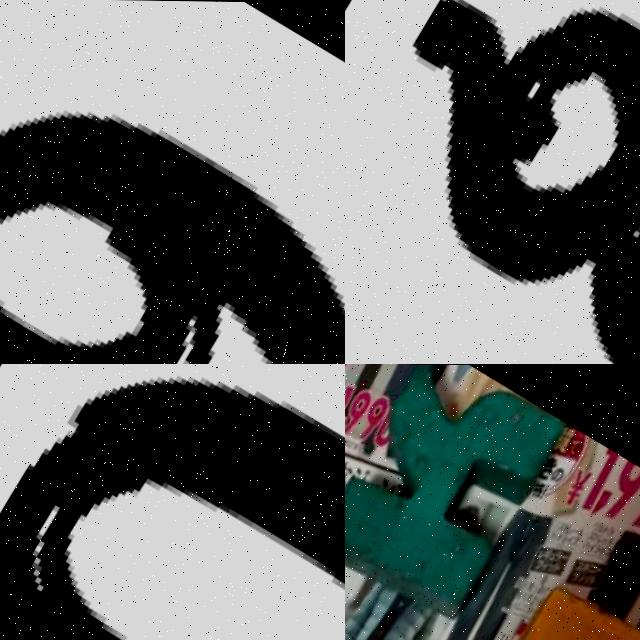0: (0, 364, 345, 640)
8: (345, 0, 640, 364)
9: (0, 37, 345, 364)
K: (345, 364, 570, 630)
L: (503, 456, 640, 640)
